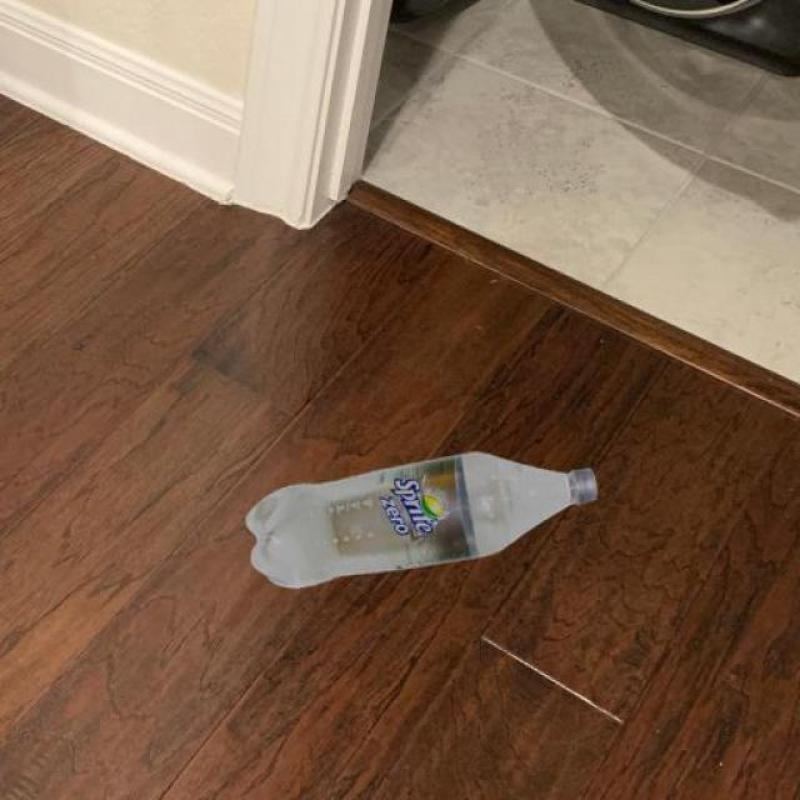botella: (248, 448, 602, 596)
